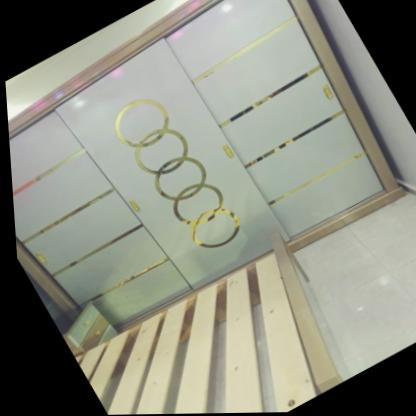Closet: (6, 0, 403, 333)
